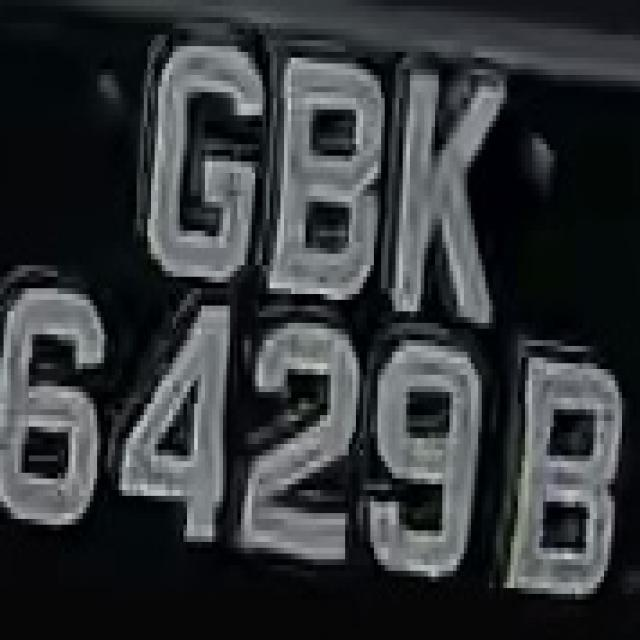2: (238, 317, 360, 577)
4: (108, 277, 234, 559)
6: (7, 254, 108, 536)
9: (370, 323, 486, 582)
B: (510, 340, 632, 617), (270, 46, 384, 323)
G: (136, 17, 262, 294)
K: (395, 63, 507, 346)
